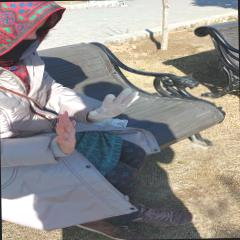gloved: (90, 88, 140, 122)
not-gloved: (55, 110, 76, 156)
